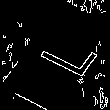L_NW: (19, 29, 91, 81)
